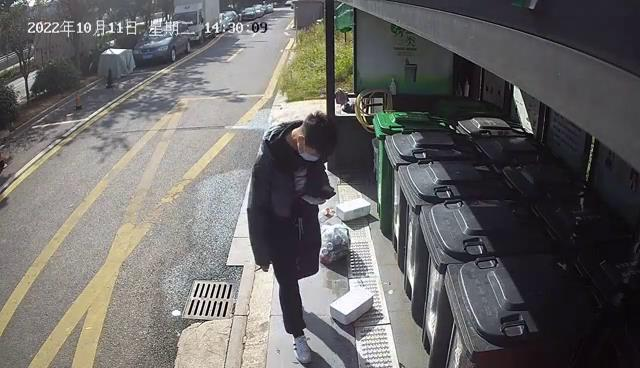person: (243, 111, 338, 364)
suliaozhipin: (321, 224, 351, 266)
zhizhipin: (329, 285, 374, 326), (335, 197, 372, 222)
